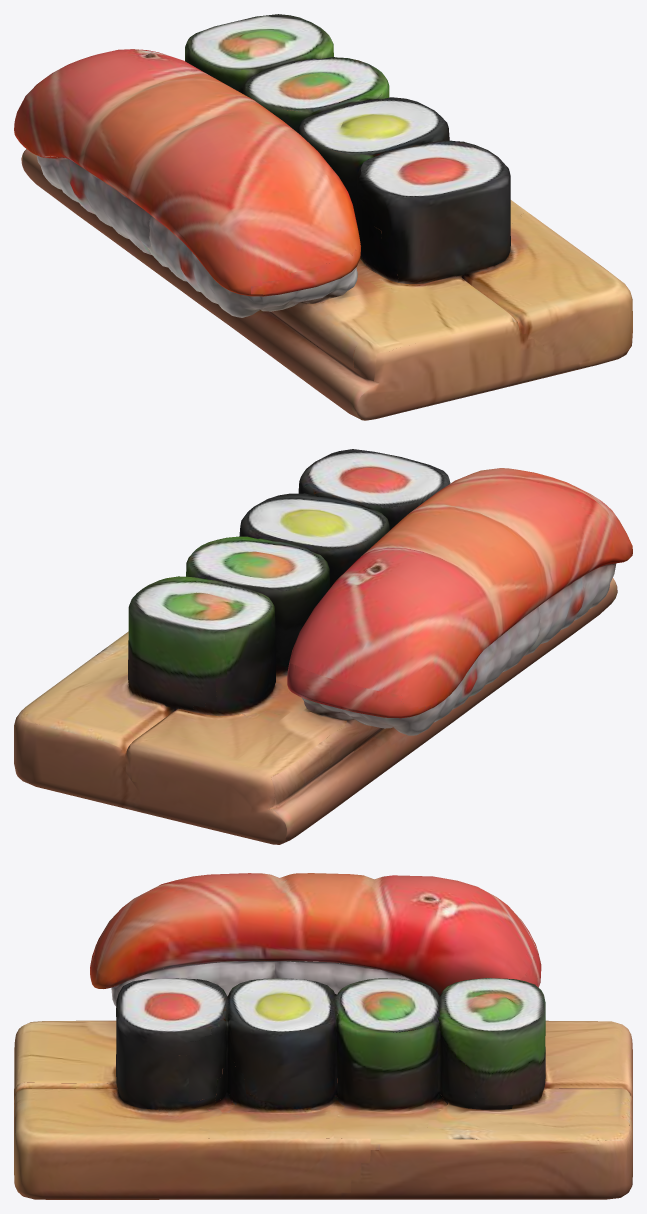
Rendered from sushi.glb.
3 renders of one model, top to bottom at view 1: azimuth 30°, elevation 25°; view 2: azimuth 150°, elevation 25°; view 3: azimuth 270°, elevation 25°, orthographic. The views are drawn at different scales.
Visible parts, largest first — view 1: sushi; view 2: sushi; view 3: sushi.
Part boxes in pixels (bbox=[...]): sushi: bbox=[14, 14, 632, 420]; sushi: bbox=[14, 449, 632, 844]; sushi: bbox=[14, 873, 632, 1199].
Bounding box in the file's own units: 0.263 × 0.1453 × 0.42.
Materials: 1 (1 with a texture image).
